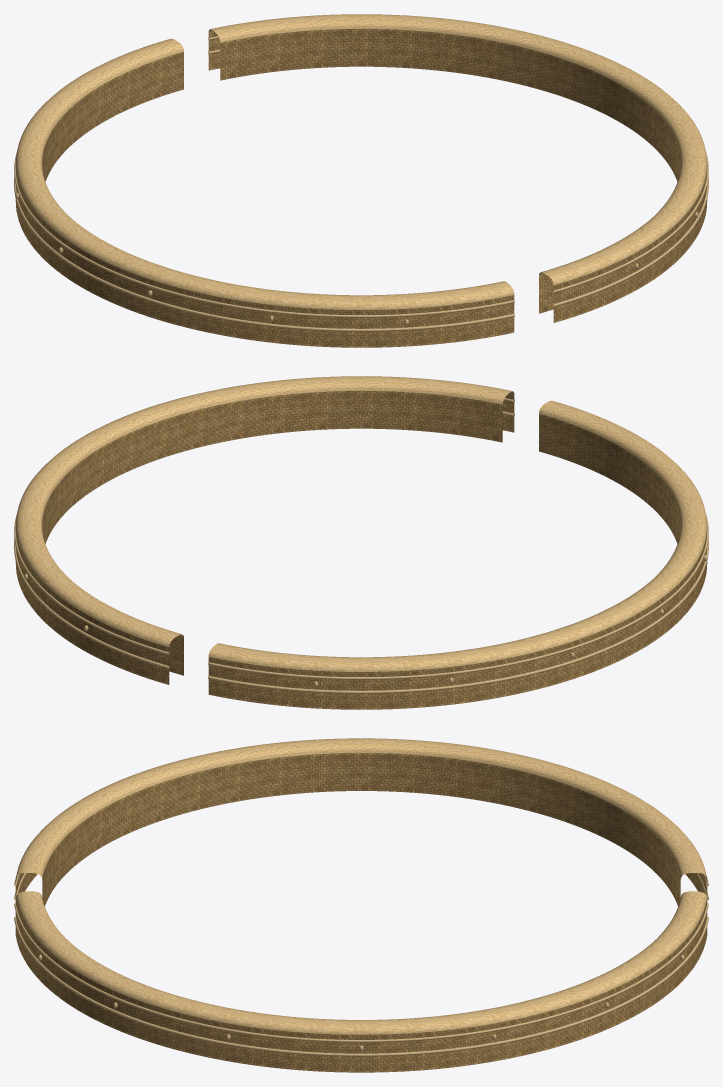
Rendered from ENV_Dimsum_Wall.fbx.
3 views of the same model, one above another, from view 1: azimuth 30°, elevation 25°; view 2: azimuth 150°, elevation 25°; view 3: azimuth 270°, elevation 25° (orthographic).
Visible parts, largest first — view 1: ENV_Dimsum_Wall; view 2: ENV_Dimsum_Wall; view 3: ENV_Dimsum_Wall.
Part boxes in pixels (box(x1,y1,x2,y2)): ENV_Dimsum_Wall: box(14, 14, 708, 347); ENV_Dimsum_Wall: box(14, 376, 708, 709); ENV_Dimsum_Wall: box(14, 738, 708, 1072).
Bounding box in the file's own units: 50.26 × 3.5 × 49.95.
